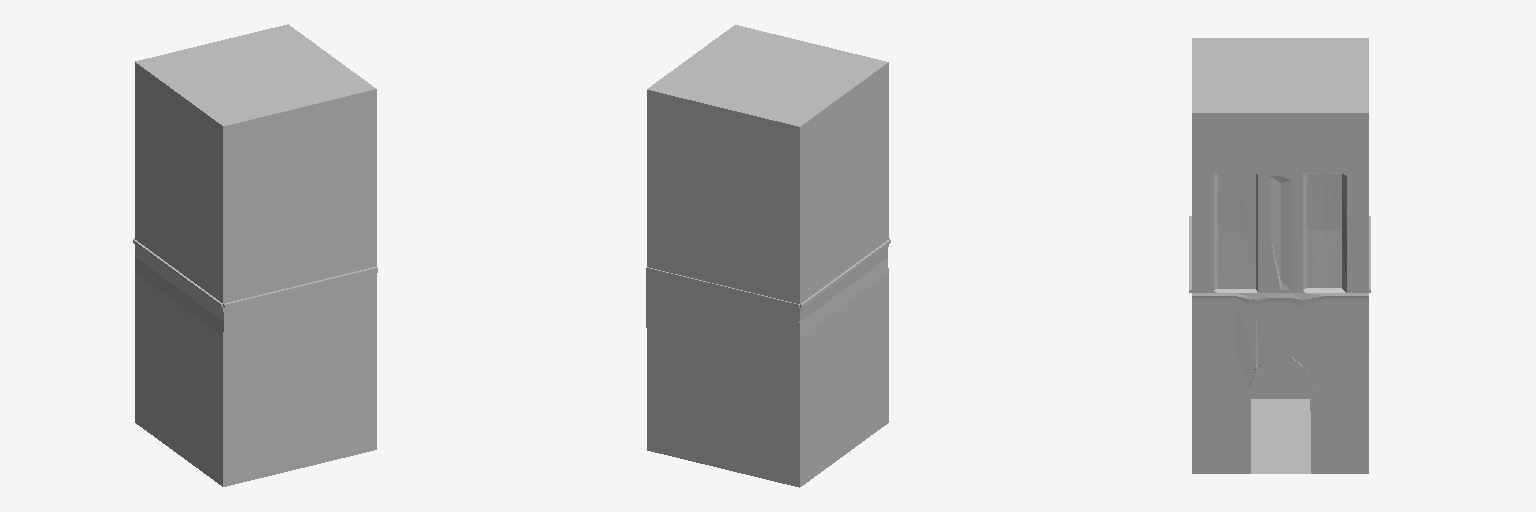
The model's file is building2story.obj.
The picture shows the model from 3 angles: view 1: azimuth 30°, elevation 25°; view 2: azimuth 150°, elevation 25°; view 3: azimuth 270°, elevation 25°; orthographic projection.
Visible parts, largest first — view 1: Cube; view 2: Cube; view 3: Cube.
Part boxes in pixels (bbox=[...]): Cube: bbox=[133, 24, 377, 486]; Cube: bbox=[646, 25, 890, 487]; Cube: bbox=[1189, 38, 1370, 473].
Size of the model in its own units: 4.71 by 10.3 by 4.7.